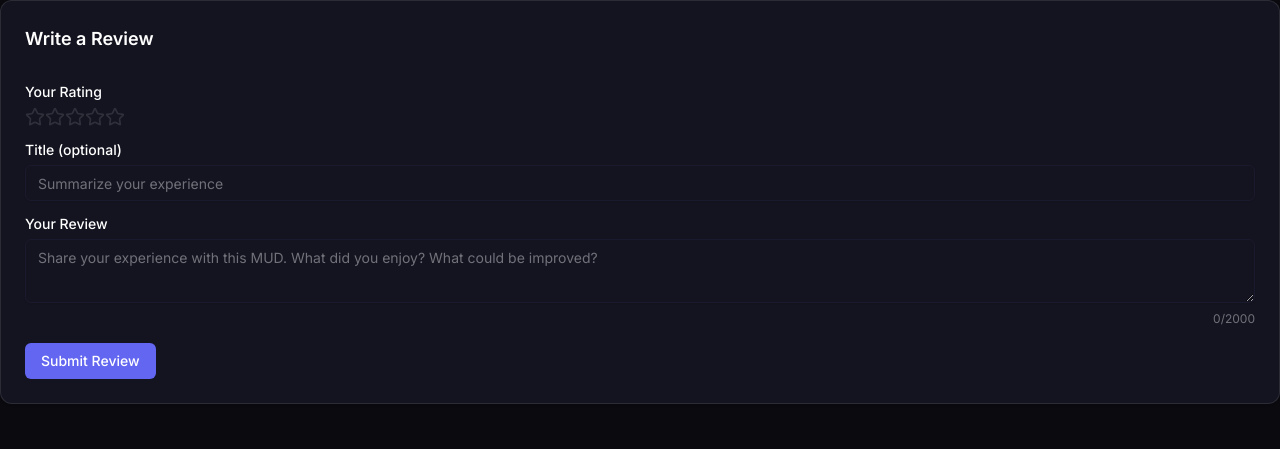
Test: ReviewForm › shows validation error when submitting without rating
Type "This is a great MUD with lots of features." into the text box labelled "Your Review" at [640, 271], box [25,239,1255,303]
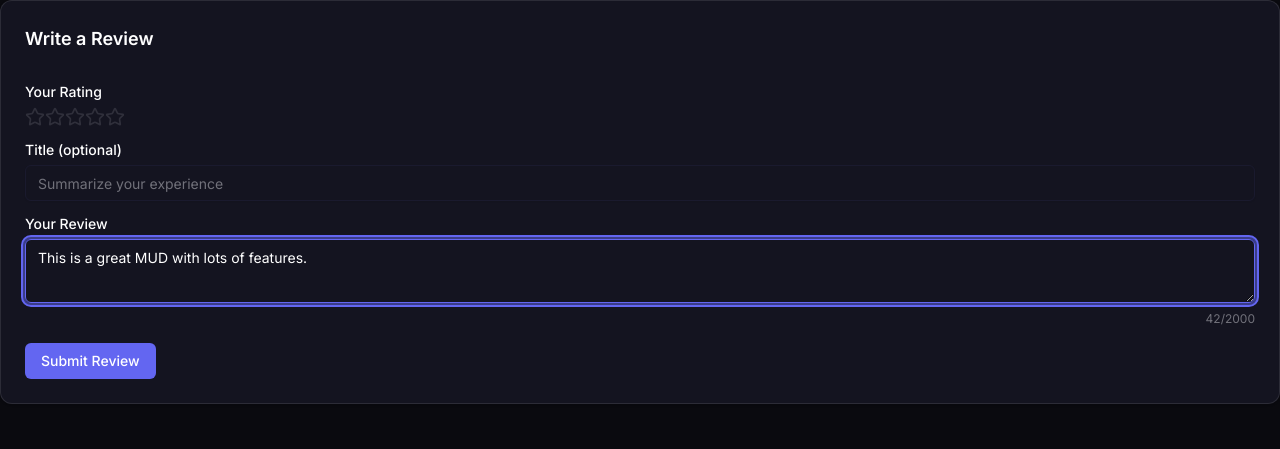
Click the button "Submit Review" at [90, 361], box [25,343,156,379]
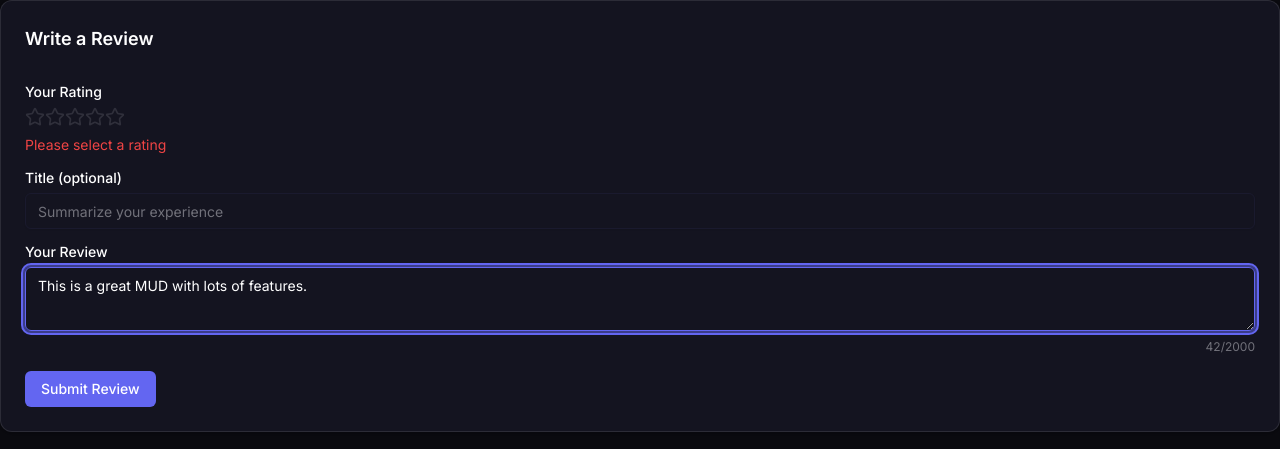
Now the text "Please select a rating" is shown, box [25,136,166,153]
